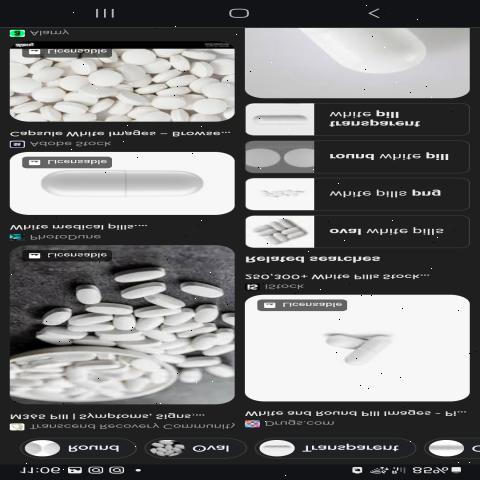Pill: (40, 162, 220, 204), (342, 333, 420, 371), (111, 261, 176, 285), (62, 280, 109, 311), (180, 276, 230, 300), (29, 306, 76, 329), (174, 368, 207, 389)
